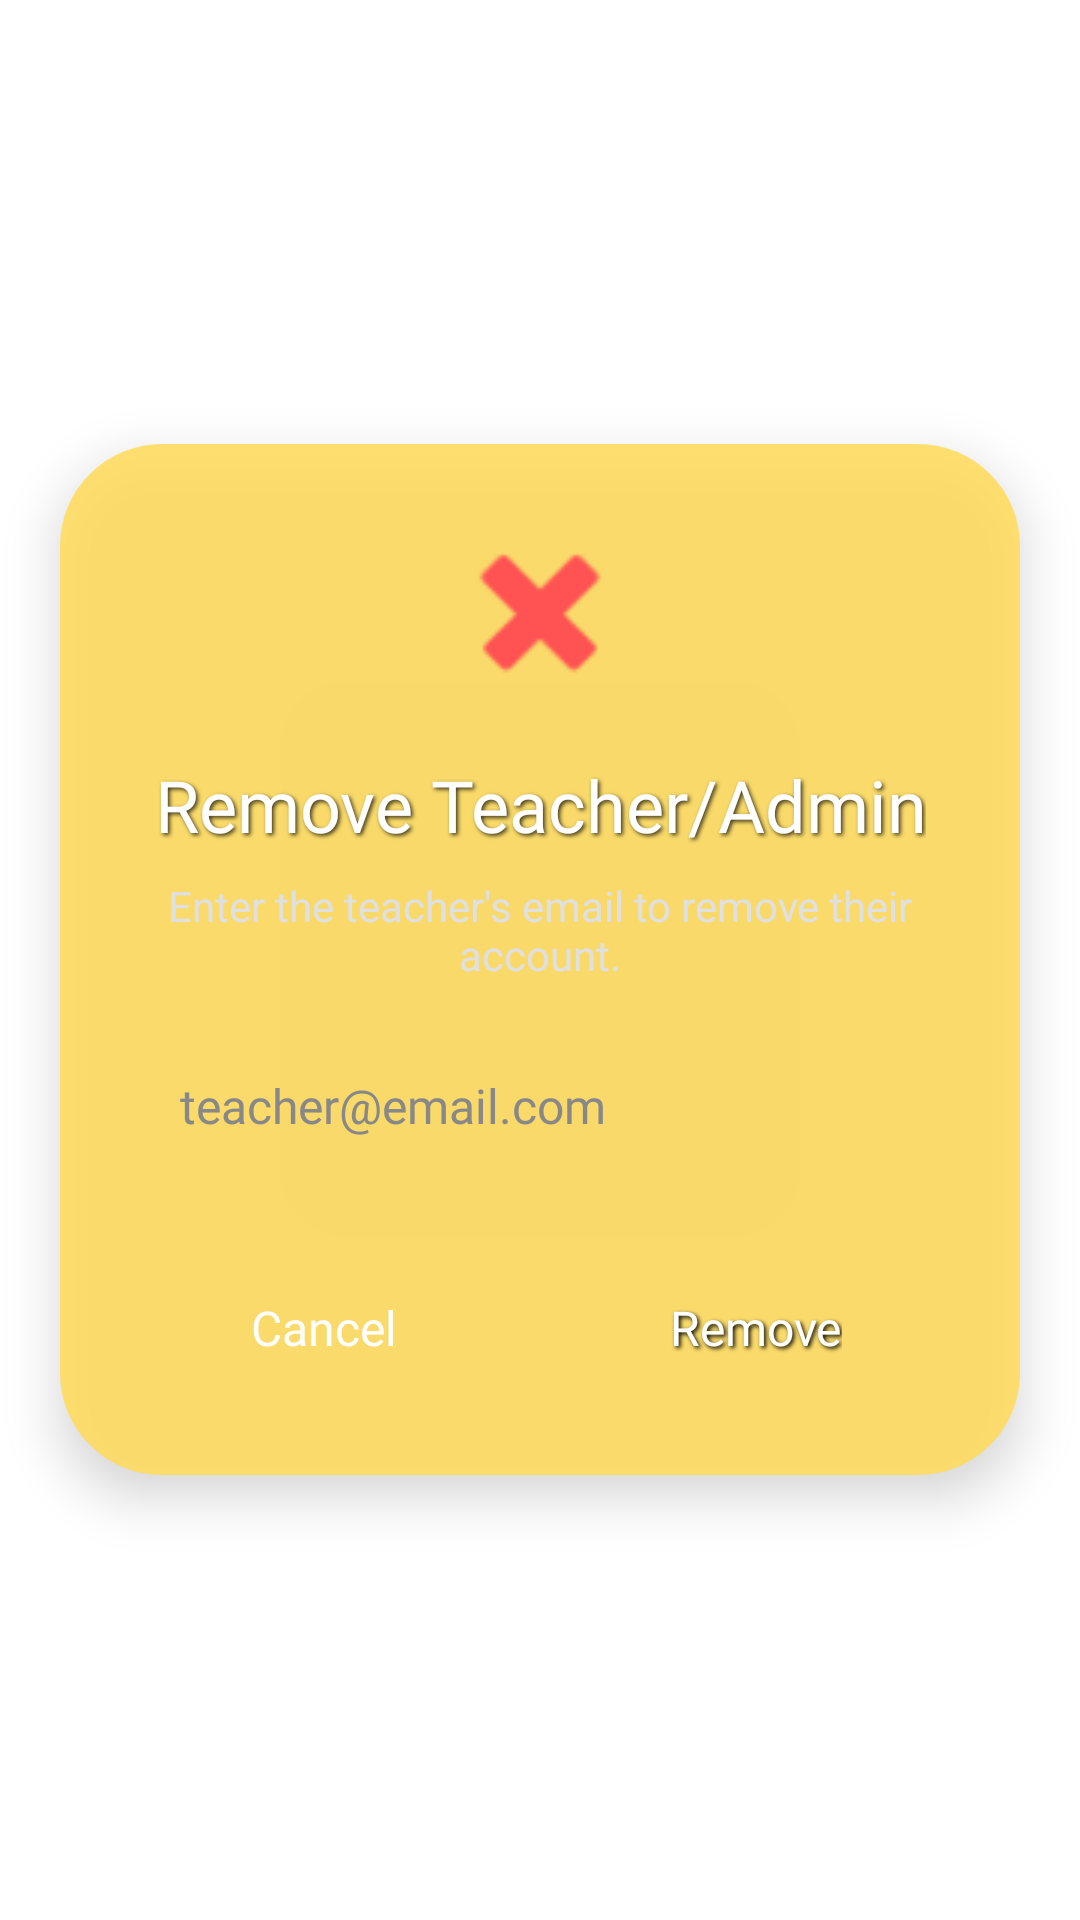

Named icons in this screenshot (1080px x 1920px) and their bounding boxes, [x1,y1,x2,y2]:
delete: [479,554,601,672]
